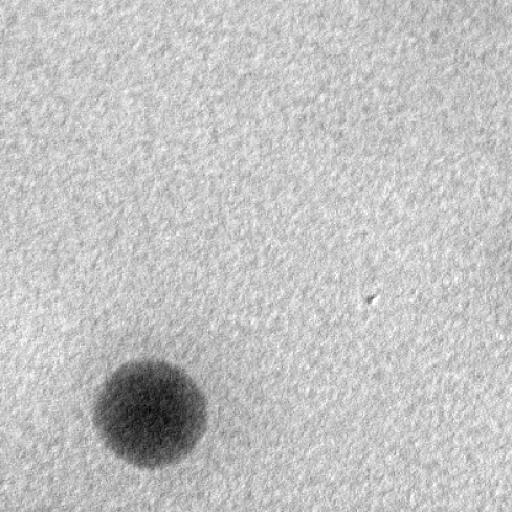Nanoparticles: (89, 356, 211, 468)
